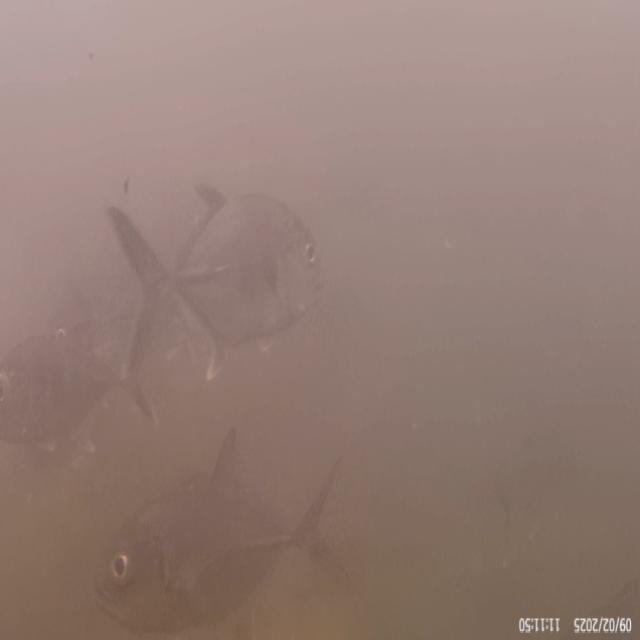ikan: (104, 176, 323, 406), (97, 422, 351, 618)
